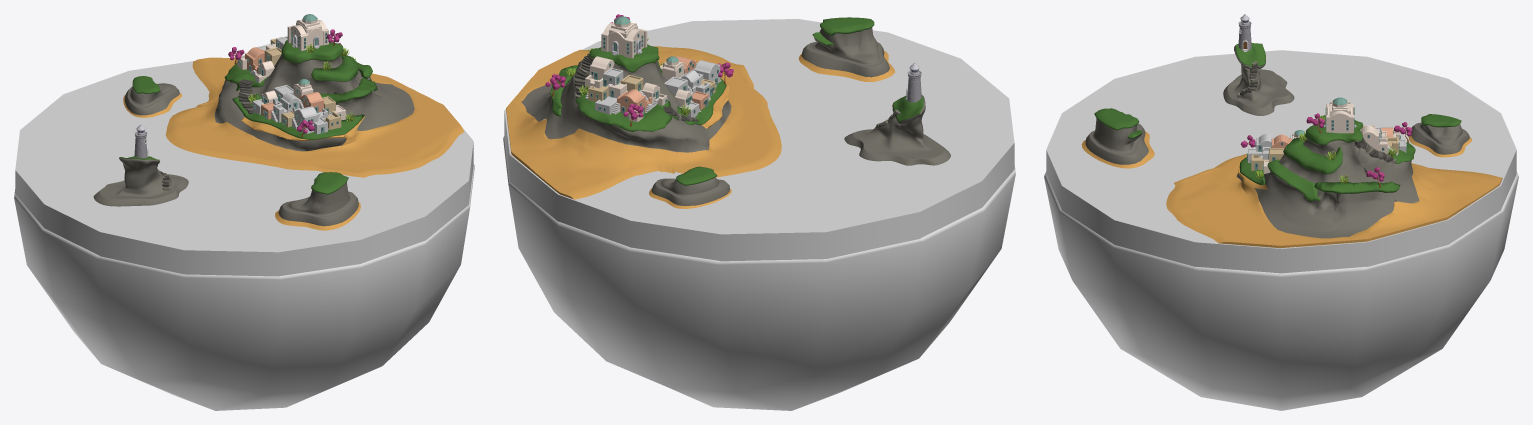
File: BeachCove.fbx
The picture shows the model from 3 angles, left to right: view 1: azimuth 30°, elevation 25°; view 2: azimuth 150°, elevation 25°; view 3: azimuth 270°, elevation 25°; orthographic projection. The views are drawn at different scales.
Parts seen in each view (by area): view 1: Ground, Roundcube.002, Main Island.007, Main Island.008, Island, Islet_02, Islet_01, House_Dome.008, Main Island.005, Main Island.003, Main Island.002, Islet_02_Grass (+4 smaller); view 2: Ground, Roundcube.002, Main Island.007, Main Island.008, Island, Islet_02, Islet_01, Main Island.006, House_Dome.008, Islet_02_Grass, Main Island.003, Trees (+5 smaller); view 3: Ground, Roundcube.002, Main Island.007, Main Island.008, Island, Islet_02, Islet_01, Main Island.002, House_Dome.008, Main Island.004, Main Island.001, Main Island.003 (+5 smaller).
Part boxes in pixels (x1,y1,x2,y2): Ground: (14,164,474,410); Roundcube.002: (15,61,473,276); Main Island.007: (165,57,464,177); Main Island.008: (214,54,414,151); Island: (93,158,188,206); Islet_02: (278,182,358,226); Islet_01: (124,83,179,115); House_Dome.008: (287,14,328,51); Main Island.005: (232,94,364,139); Main Island.003: (281,40,343,63); Main Island.002: (311,54,357,81); Islet_02_Grass: (311,172,348,194); Ground: (503,136,1015,410); Roundcube.002: (504,19,1014,261); Main Island.007: (506,46,781,199); Main Island.008: (521,58,731,152); Island: (844,95,950,165); Islet_02: (801,27,889,77); Islet_01: (651,177,729,205); Main Island.006: (575,87,678,131); House_Dome.008: (601,16,647,58); Islet_02_Grass: (812,17,874,45); Main Island.003: (589,45,658,72); Trees: (545,14,733,126); Ground: (1044,171,1518,410); Roundcube.002: (1046,50,1516,273); Main Island.007: (1166,153,1502,248); Main Island.008: (1236,137,1419,238); Island: (1223,45,1294,115); Islet_02: (1085,118,1148,164); Islet_01: (1411,122,1469,154); Main Island.002: (1283,138,1342,174); House_Dome.008: (1324,97,1356,133); Main Island.004: (1314,181,1400,193); Main Island.001: (1267,159,1320,201); Main Island.003: (1305,115,1362,145).
Size of the model in its own units: 2340 by 1836 by 2340.
